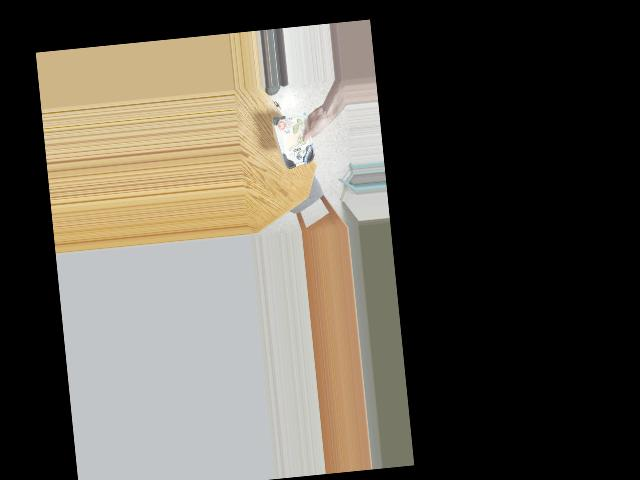cheese: (274, 118, 322, 165)
